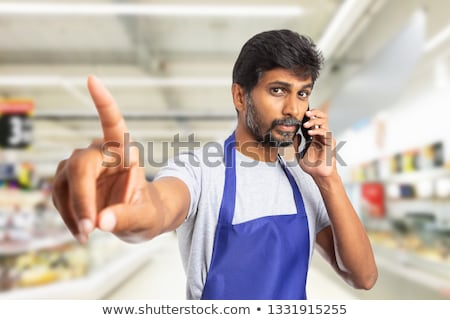phone: (296, 104, 319, 164)
talk: (258, 81, 338, 178)
